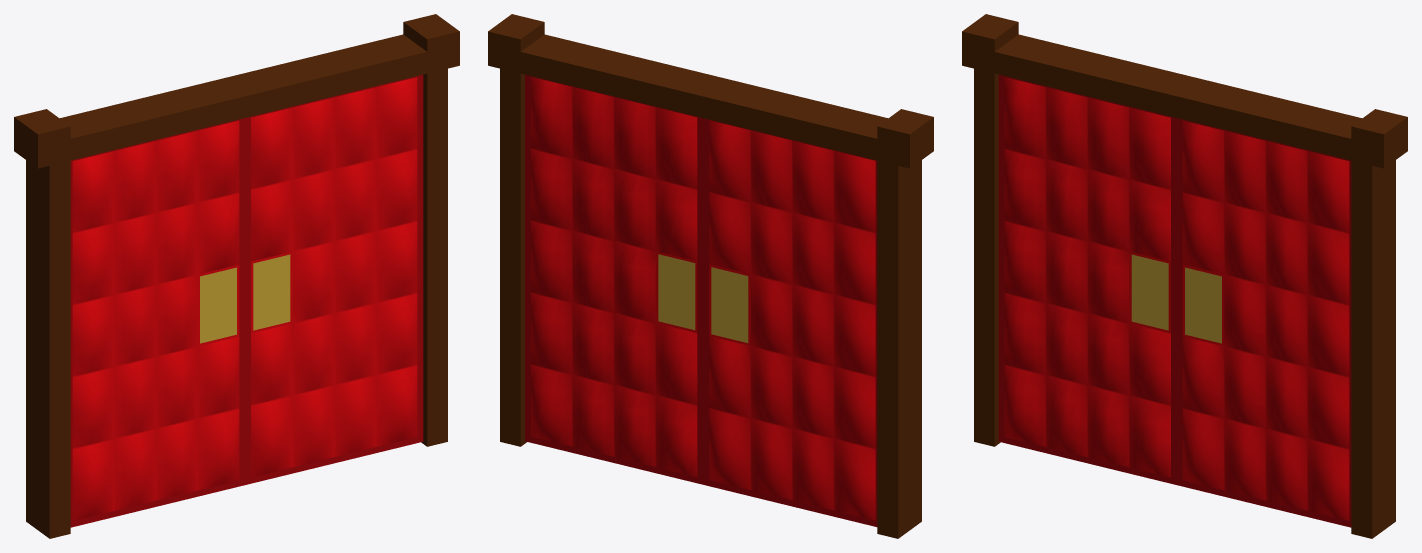
Rendered from LobbyDoor.fbx.
The picture shows the model from 3 angles, left to right: view 1: azimuth 30°, elevation 25°; view 2: azimuth 150°, elevation 25°; view 3: azimuth 330°, elevation 25°; orthographic projection.
Parts seen in each view (by area): view 1: Cube.003, Cube.001, Cube.002; view 2: Cube.003, Cube.001, Cube.002; view 3: Cube.001, Cube.003, Cube.002.
Boxes of the visible parts, left/top/right/bottom form: Cube.003: left=245, top=75, right=423, bottom=484; Cube.001: left=70, top=118, right=244, bottom=527; Cube.002: left=14, top=14, right=459, bottom=538; Cube.003: left=525, top=75, right=703, bottom=484; Cube.001: left=703, top=118, right=877, bottom=526; Cube.002: left=488, top=14, right=933, bottom=538; Cube.001: left=998, top=75, right=1176, bottom=484; Cube.003: left=1177, top=118, right=1351, bottom=527; Cube.002: left=962, top=14, right=1407, bottom=538.
Size of the model in its own units: 355 by 327 by 36.69.
